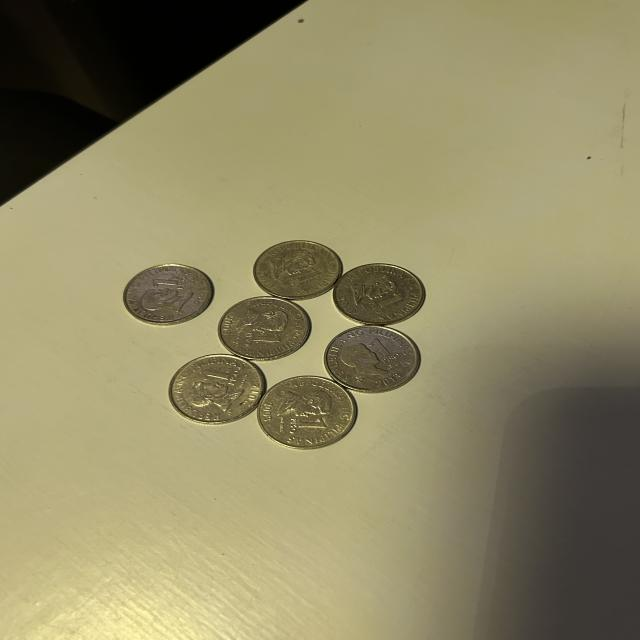1_Old_Front: (278, 412, 329, 438), (362, 335, 398, 371), (198, 364, 244, 390), (364, 294, 406, 318), (147, 276, 195, 296), (239, 331, 280, 354), (290, 267, 324, 291)
